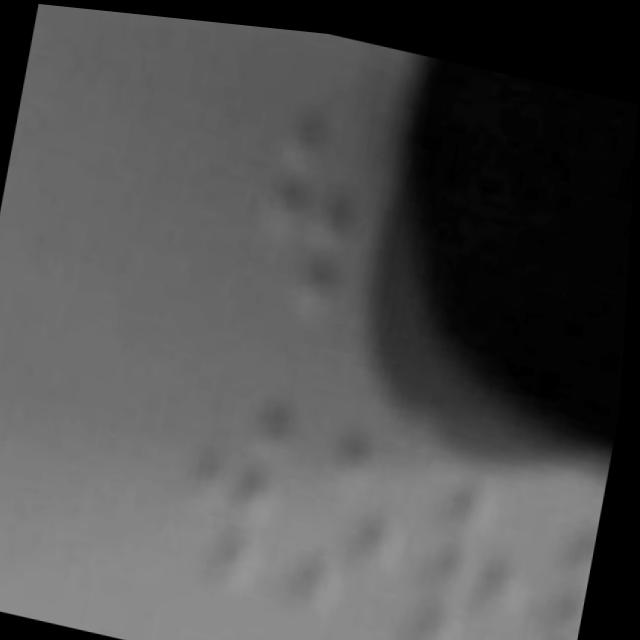braiile: (281, 397, 440, 640), (168, 344, 316, 605), (244, 75, 391, 334), (409, 438, 555, 640), (527, 470, 609, 640)
